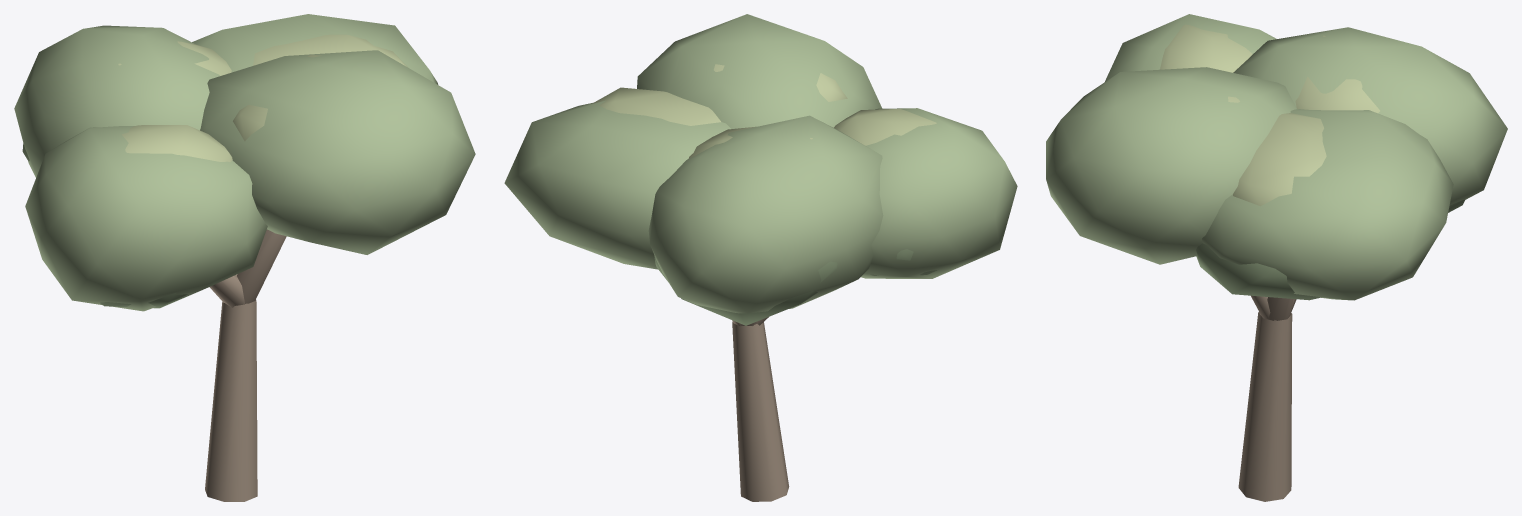
File: tree_ceibo_3.glb
3 renders of one model, left to right at view 1: azimuth 30°, elevation 25°; view 2: azimuth 150°, elevation 25°; view 3: azimuth 270°, elevation 25°, orthographic. The views are drawn at different scales.
Parts seen in each view (by area): view 1: tree_ceibo_3.glb; view 2: tree_ceibo_3.glb; view 3: tree_ceibo_3.glb.
Part boxes in pixels (bbox=[...]): tree_ceibo_3.glb: bbox=[14, 14, 475, 501]; tree_ceibo_3.glb: bbox=[504, 14, 1017, 501]; tree_ceibo_3.glb: bbox=[1046, 14, 1507, 501].
Bounding box in the file's own units: 4.76 × 4.53 × 4.35.
